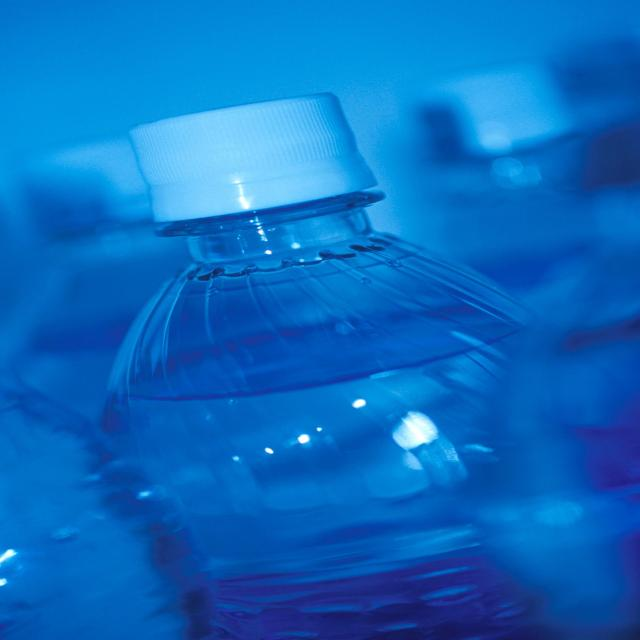blue_bottle: (96, 86, 639, 636)
